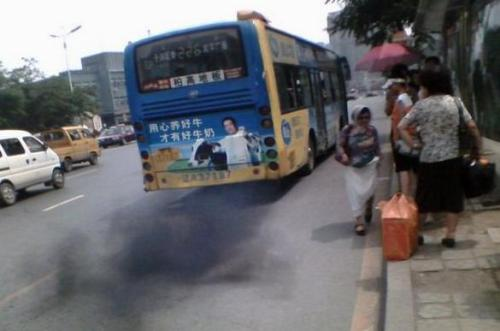smoke: (110, 191, 262, 295)
